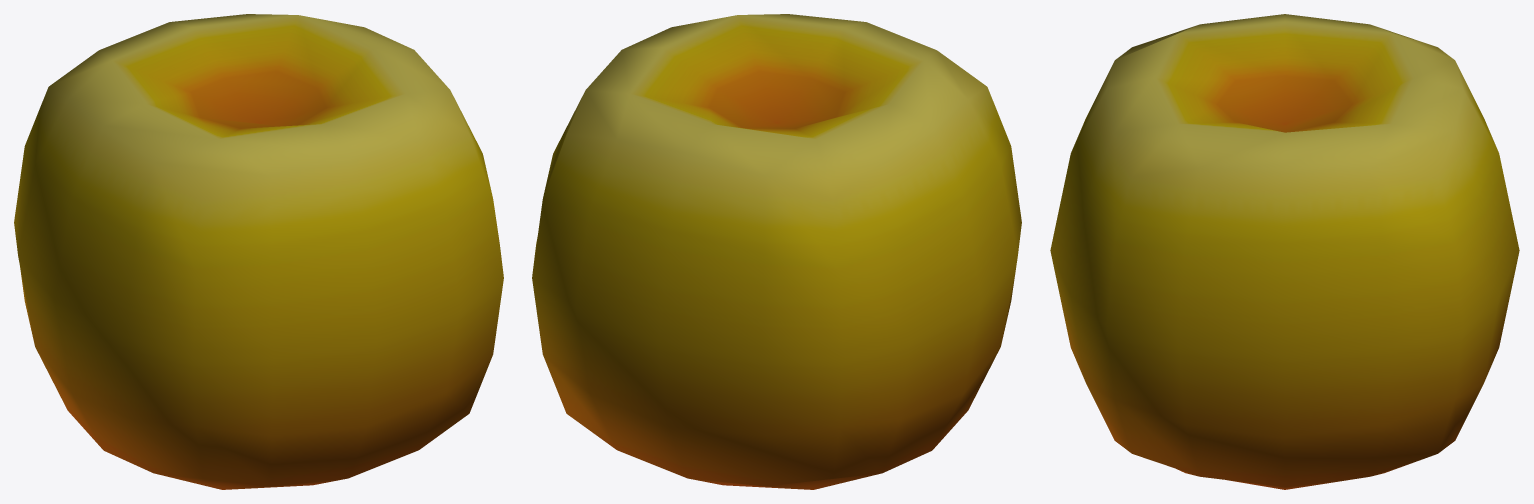
Rendered from Kernel.glb.
3 renders of one model, left to right at view 1: azimuth 30°, elevation 25°; view 2: azimuth 150°, elevation 25°; view 3: azimuth 270°, elevation 25°, orthographic.
Parts seen in each view (by area): view 1: geometry_0; view 2: geometry_0; view 3: geometry_0.
Boxes of the visible parts, x1,y1,x2,y2 form: geometry_0: [14, 14, 503, 489]; geometry_0: [532, 14, 1021, 489]; geometry_0: [1050, 14, 1519, 489].
Bounding box in the file's own units: 3.4 × 3.09 × 3.4.
Materials: 1 (1 with a texture image).
